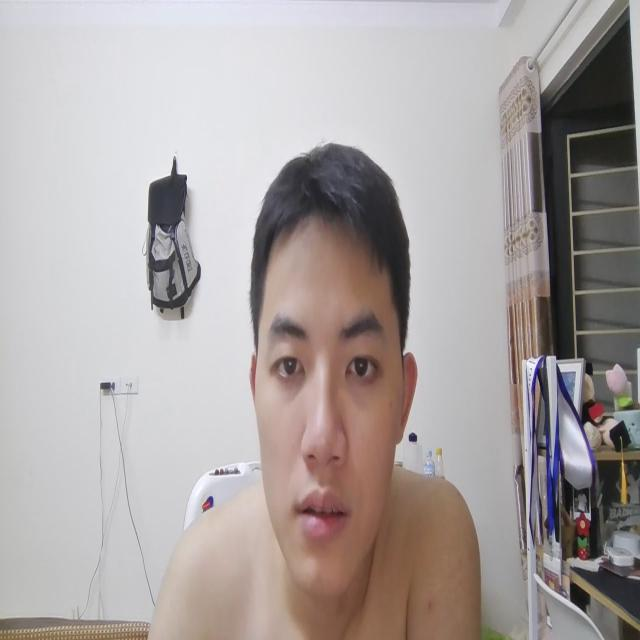student: (238, 130, 420, 591)
